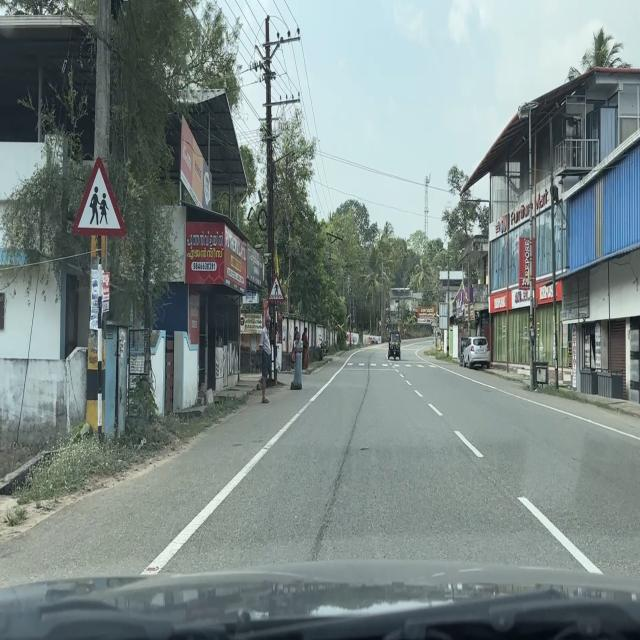PEDESTRIAN_CROSSING: (268, 272, 286, 302)
SCHOOL_AHEAD: (70, 156, 127, 239)
